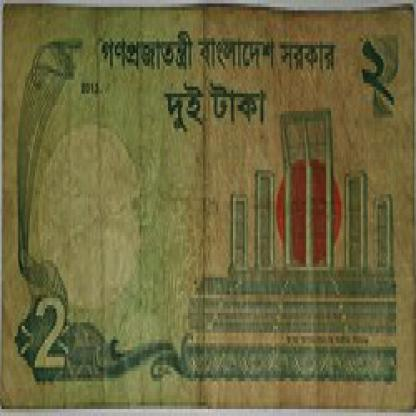two taka: (161, 76, 266, 153), (27, 288, 75, 398), (363, 35, 401, 114)
